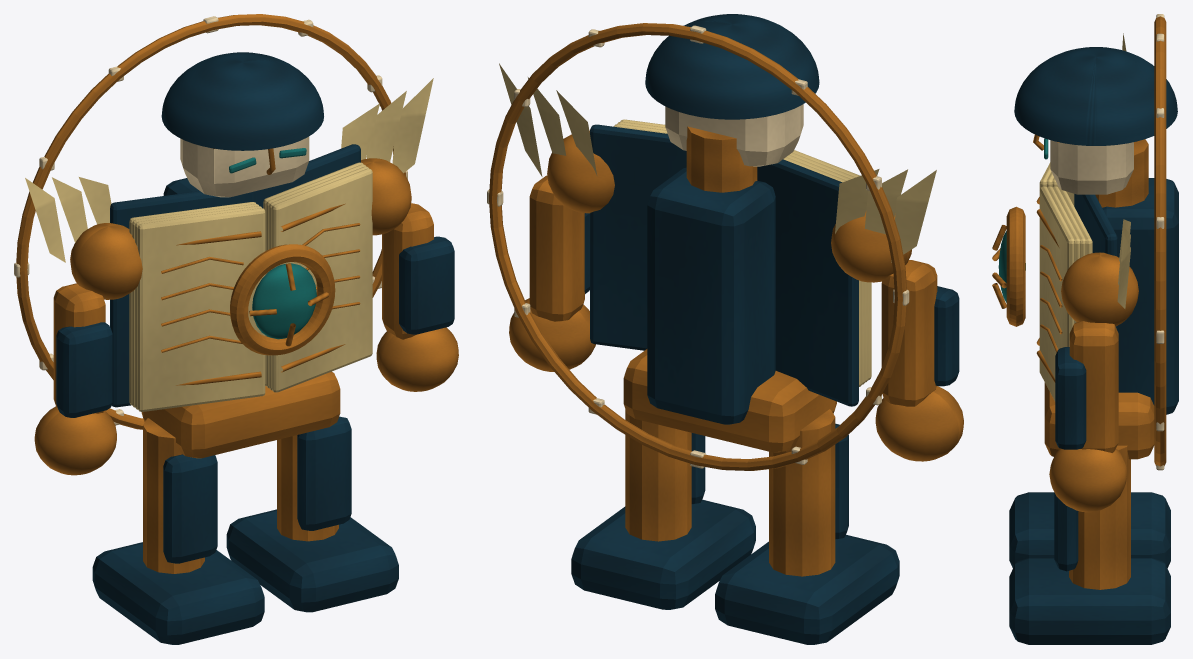
File: guardian.glb
3 renders of one model, left to right at view 1: azimuth 30°, elevation 25°; view 2: azimuth 150°, elevation 25°; view 3: azimuth 270°, elevation 25°, orthographic. The views are drawn at different scales.
Parts seen in each view (by area): view 1: AtlasBody Benchmark slate.001, AtlasBody Benchmark parchment.001, AtlasBody Benchmark brass.001, Head Benchmark slate.001, ArmLeft Benchmark brass.001, ArmRight Benchmark brass.001, Ring Benchmark brass.001, Core Benchmark brass.001, ArmLeft Benchmark slate.001, Head Benchmark carved edge.001, ArmRight Benchmark slate.001, ArmRight Benchmark parchment.001 (+3 smaller); view 2: AtlasBody Benchmark slate.001, AtlasBody Benchmark brass.001, Ring Benchmark brass.001, ArmLeft Benchmark brass.001, ArmRight Benchmark brass.001, Head Benchmark slate.001, Head Benchmark carved edge.001, ArmLeft Benchmark parchment.001, ArmRight Benchmark parchment.001, AtlasBody Benchmark parchment.001, ArmLeft Benchmark slate.001, Ring Benchmark carved edge.001; view 3: AtlasBody Benchmark slate.001, ArmRight Benchmark brass.001, Head Benchmark slate.001, AtlasBody Benchmark brass.001, AtlasBody Benchmark parchment.001, Ring Benchmark brass.001, Head Benchmark carved edge.001, ArmRight Benchmark slate.001, Core Benchmark brass.001, ArmRight Benchmark parchment.001, Ring Benchmark carved edge.001, Core Benchmark lagoon.001.
Part boxes in pixels (x1,y1,x2,y2): AtlasBody Benchmark slate.001: [92, 144, 398, 644]; AtlasBody Benchmark parchment.001: [129, 162, 372, 411]; AtlasBody Benchmark brass.001: [141, 203, 360, 573]; Head Benchmark slate.001: [161, 52, 323, 150]; ArmLeft Benchmark brass.001: [34, 223, 142, 475]; ArmRight Benchmark brass.001: [361, 158, 458, 391]; Ring Benchmark brass.001: [16, 14, 405, 429]; Core Benchmark brass.001: [230, 244, 335, 355]; ArmLeft Benchmark slate.001: [56, 322, 112, 417]; Head Benchmark carved edge.001: [180, 136, 309, 197]; ArmRight Benchmark slate.001: [399, 236, 454, 334]; ArmRight Benchmark parchment.001: [341, 78, 433, 173]; AtlasBody Benchmark slate.001: [571, 124, 899, 644]; AtlasBody Benchmark brass.001: [623, 126, 836, 576]; Ring Benchmark brass.001: [489, 23, 906, 470]; ArmLeft Benchmark brass.001: [831, 211, 963, 461]; ArmRight Benchmark brass.001: [509, 130, 614, 371]; Head Benchmark slate.001: [645, 14, 819, 119]; Head Benchmark carved edge.001: [665, 104, 803, 166]; ArmLeft Benchmark parchment.001: [835, 169, 936, 262]; ArmRight Benchmark parchment.001: [499, 63, 597, 176]; AtlasBody Benchmark parchment.001: [613, 119, 871, 386]; ArmLeft Benchmark slate.001: [934, 286, 959, 386]; Ring Benchmark carved edge.001: [487, 25, 909, 468]; AtlasBody Benchmark slate.001: [1009, 178, 1178, 644]; ArmRight Benchmark brass.001: [1049, 252, 1138, 512]; Head Benchmark slate.001: [1014, 47, 1177, 145]; AtlasBody Benchmark brass.001: [1036, 139, 1154, 589]; AtlasBody Benchmark parchment.001: [1039, 162, 1092, 401]; Ring Benchmark brass.001: [1154, 16, 1166, 466]; Head Benchmark carved edge.001: [1050, 140, 1133, 194]; ArmRight Benchmark slate.001: [1055, 347, 1086, 449]; Core Benchmark brass.001: [992, 206, 1025, 326]; ArmRight Benchmark parchment.001: [1117, 219, 1130, 308]; Ring Benchmark carved edge.001: [1156, 14, 1164, 470]; Core Benchmark lagoon.001: [998, 231, 1025, 302].
Bounding box in the file's own units: 2.48 × 3.16 × 0.959.
5 materials, 5 textured.
